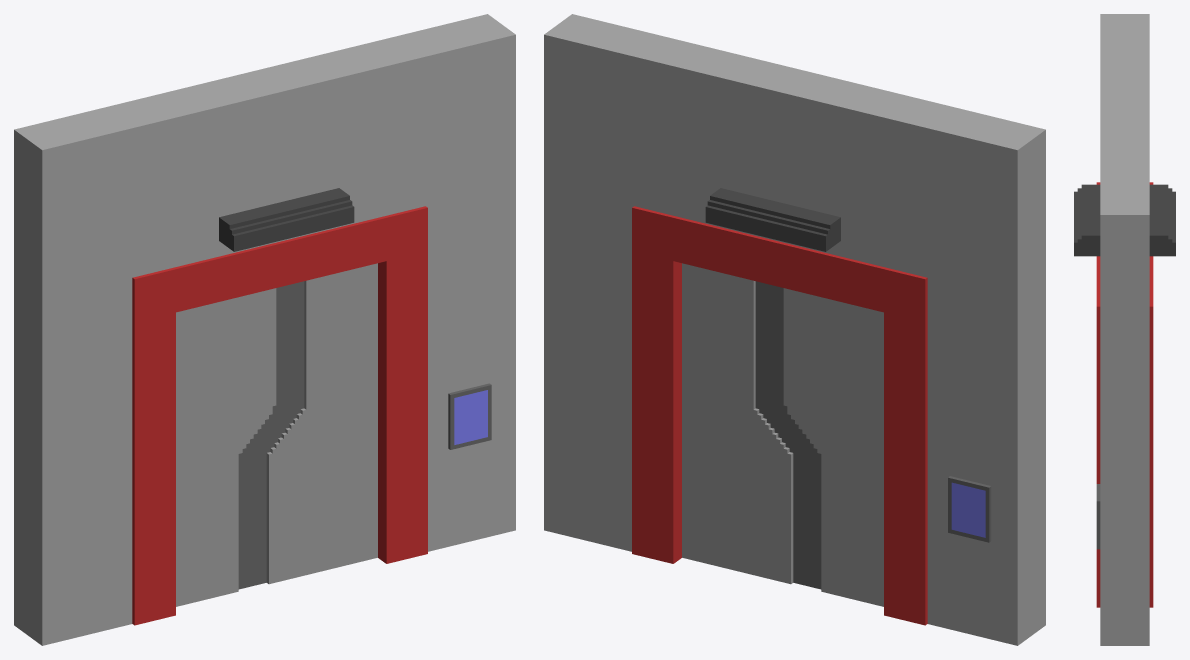
Rendered from Operating_room_Door5-1-1.fbx.
3 views of the same model, side by side, from view 1: azimuth 30°, elevation 25°; view 2: azimuth 150°, elevation 25°; view 3: azimuth 270°, elevation 25° (orthographic). The views are drawn at different scales.
Visible parts, largest first — view 1: Operating room Door5-1-1.001, Operating room Door5-1-1.008, Operating room Door5-1-1.007, Operating room Door5-1-1.009; view 2: Operating room Door5-1-1.001, Operating room Door5-1-1.008, Operating room Door5-1-1.007, Operating room Door5-1-1.006; view 3: Operating room Door5-1-1.001.
Boxes of the visible parts, x1,y1,x2,y2 form: Operating room Door5-1-1.001: (14, 14, 515, 645); Operating room Door5-1-1.008: (251, 263, 377, 586); Operating room Door5-1-1.007: (176, 285, 289, 606); Operating room Door5-1-1.009: (454, 390, 487, 444); Operating room Door5-1-1.001: (544, 14, 1045, 645); Operating room Door5-1-1.008: (682, 263, 808, 586); Operating room Door5-1-1.007: (770, 285, 883, 606); Operating room Door5-1-1.006: (951, 482, 985, 537); Operating room Door5-1-1.001: (1074, 14, 1175, 645).
Size of the model in its own units: 12.6 by 12.6 by 2.7.
